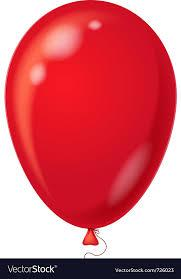red: (5, 0, 177, 233)
